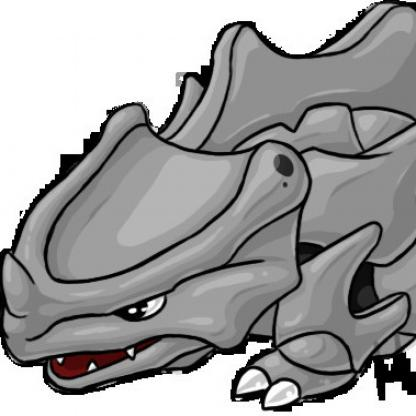Rhyhorn: (1, 8, 416, 405)
